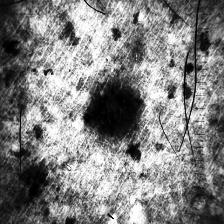Benign Marking or Mole: (87, 88, 138, 132)
